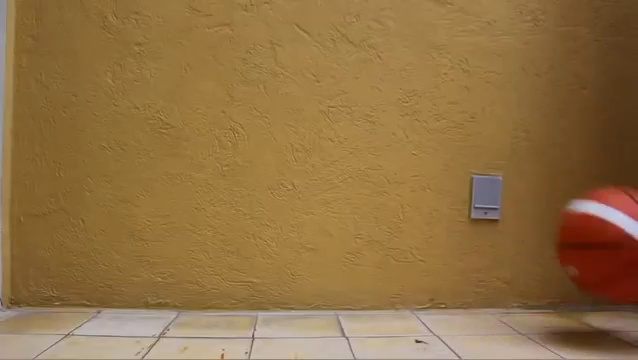ball: (556, 183, 638, 309)
